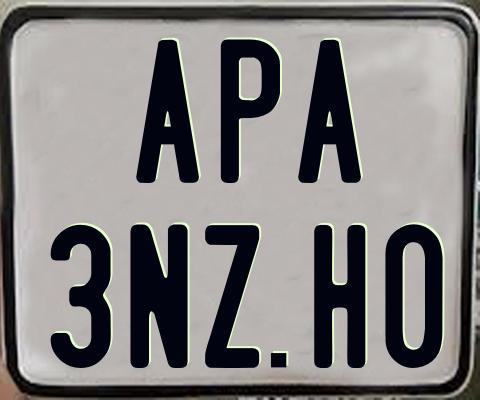0: (384, 222, 442, 367)
3: (48, 224, 109, 368)
A: (134, 38, 197, 187), (296, 37, 361, 181)
H: (312, 223, 364, 368)
N: (130, 224, 191, 370)
P: (221, 38, 283, 183)
Z: (204, 223, 263, 368)
